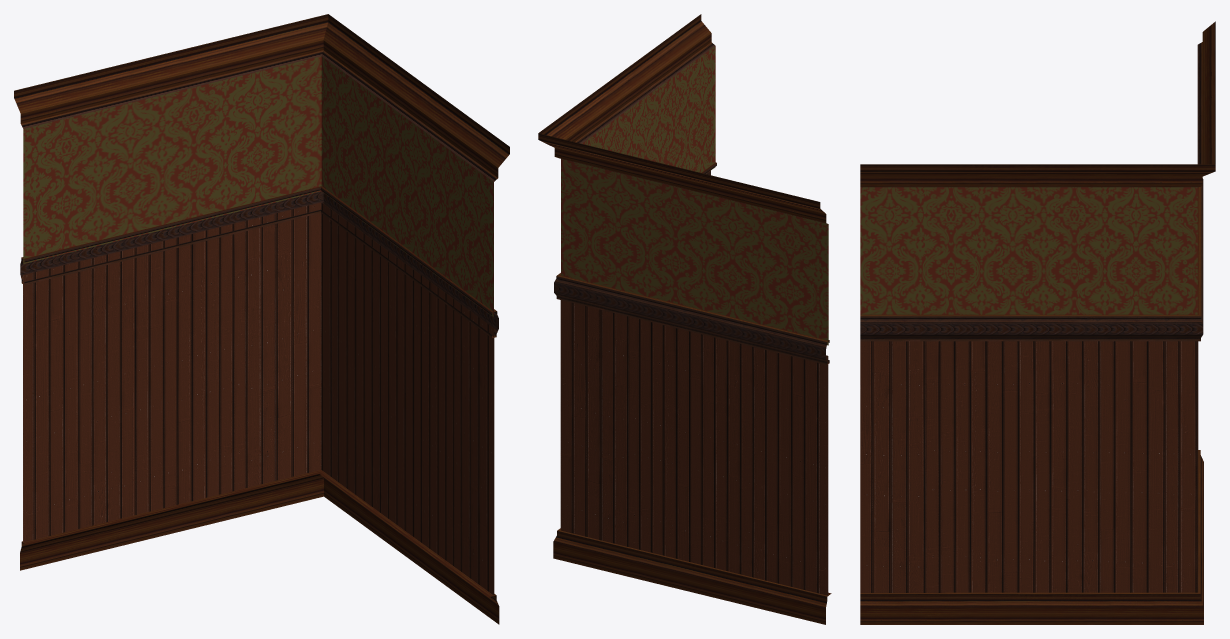
File: Wall2Corner.fbx
3 views of the same model, side by side, from view 1: azimuth 30°, elevation 25°; view 2: azimuth 150°, elevation 25°; view 3: azimuth 270°, elevation 25° (orthographic). The views are drawn at different scales.
Parts seen in each view (by area): view 1: Wall Outie_Large.002; view 2: Wall Outie_Large.002; view 3: Wall Outie_Large.002.
Part boxes in pixels (x1=…): Wall Outie_Large.002: x1=14, y1=14, x2=509, y2=624; Wall Outie_Large.002: x1=538, y1=14, x2=831, y2=624; Wall Outie_Large.002: x1=860, y1=21, x2=1215, y2=624.
Size of the model in its own units: 195 by 281 by 195.
